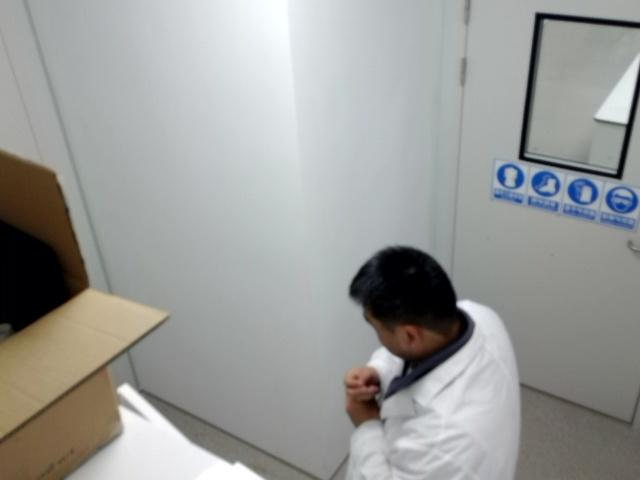Lab_coat: (344, 247, 519, 479)
